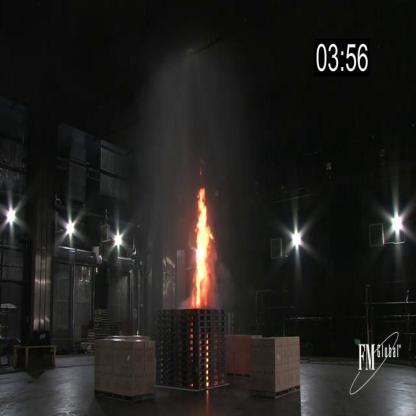fire: (192, 181, 212, 311)
